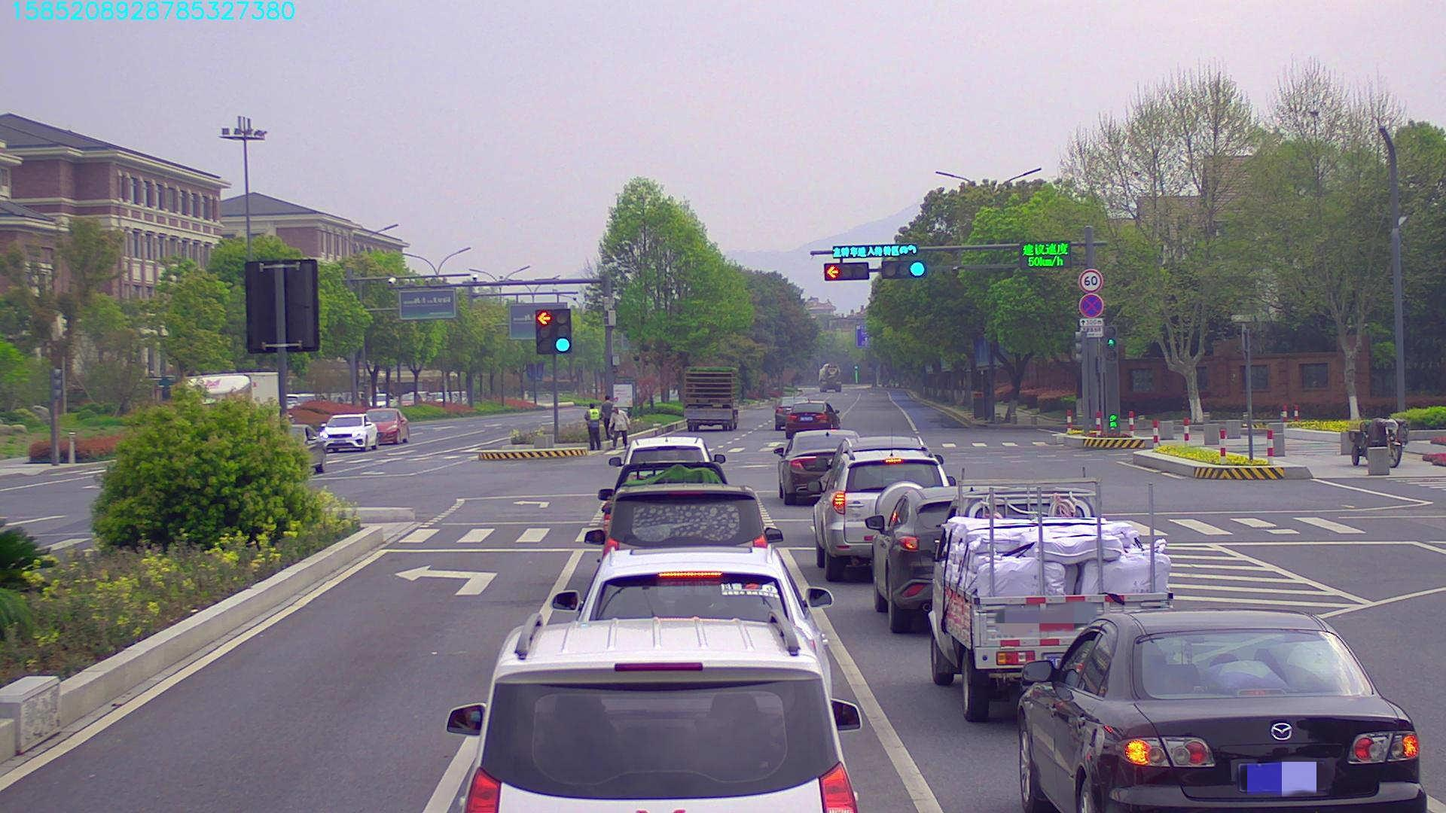green: (886, 263, 924, 273)
red: (822, 264, 871, 278)
wait_on: (837, 244, 919, 261)
